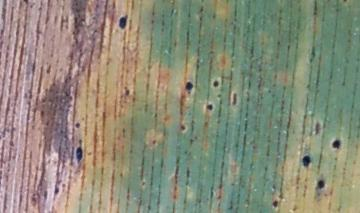tarspot: (118, 14, 128, 30), (75, 144, 83, 163), (302, 153, 312, 167), (184, 79, 193, 93), (332, 138, 341, 151), (231, 89, 237, 106), (122, 87, 130, 97), (52, 186, 60, 195), (211, 79, 219, 88), (318, 179, 324, 191), (207, 102, 214, 112), (179, 124, 187, 132), (73, 121, 82, 128), (271, 199, 278, 208), (151, 137, 158, 145), (77, 137, 83, 145), (22, 1, 29, 6)
